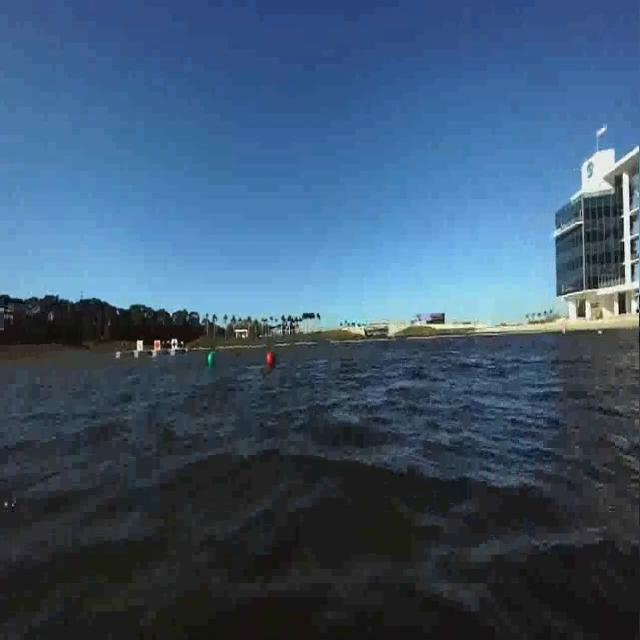green-buoy: (208, 351, 216, 367)
red-buoy: (268, 352, 277, 365)
